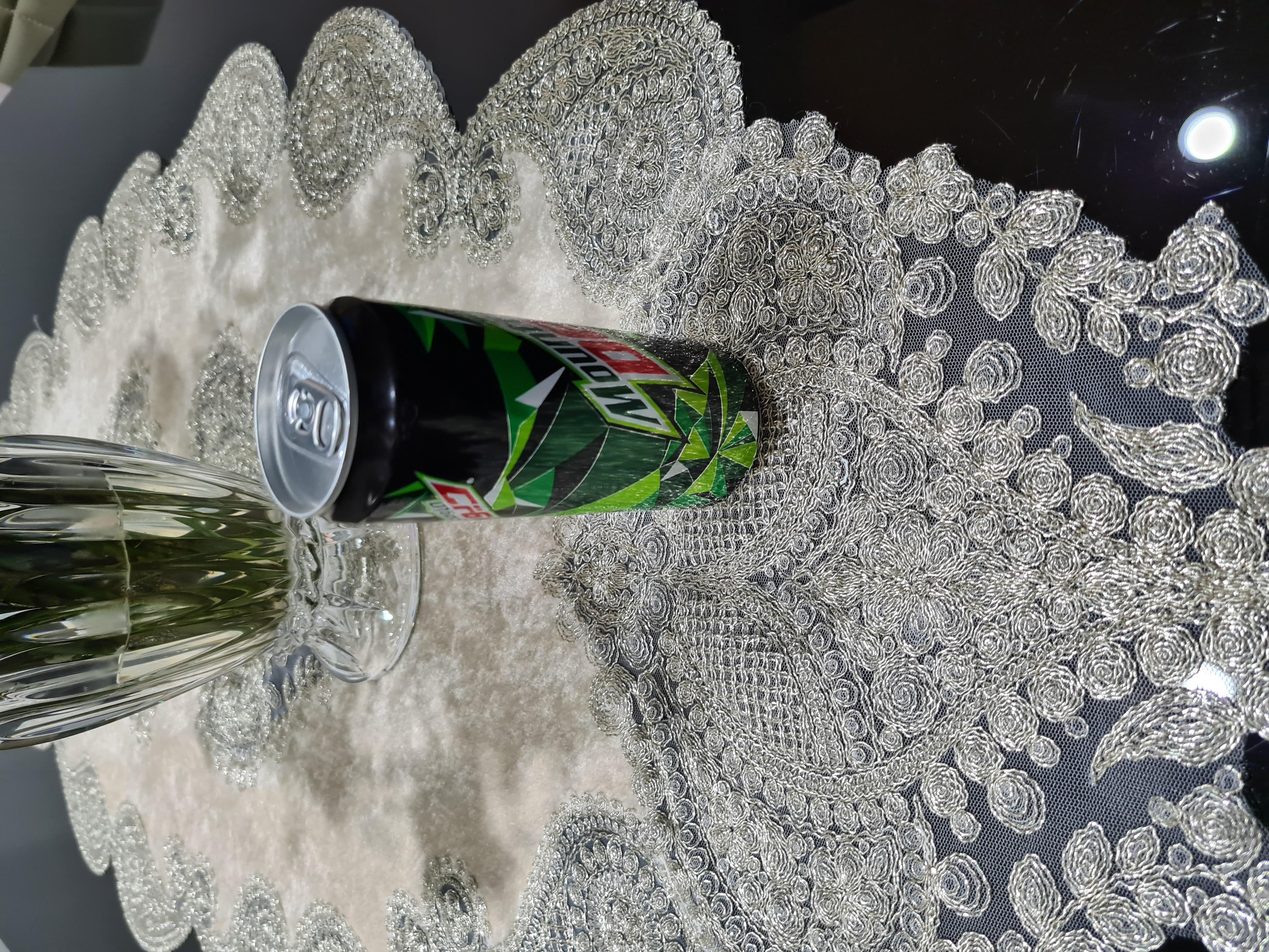debris: (228, 286, 768, 527)
